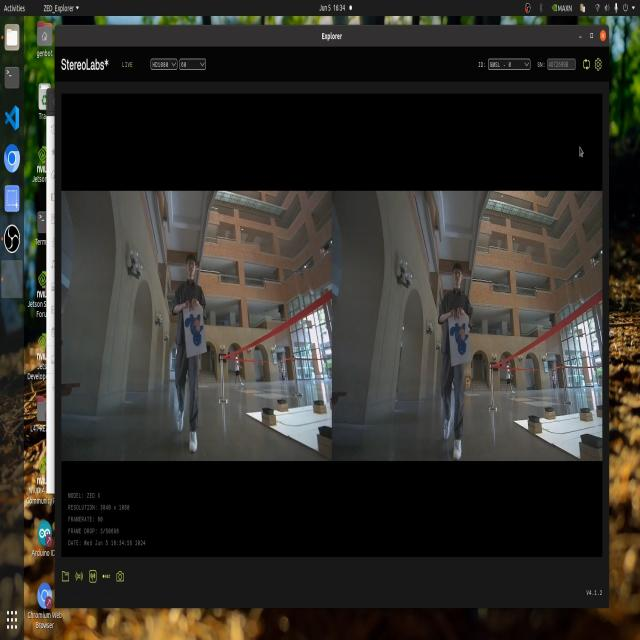blue: (174, 305, 208, 356), (446, 318, 470, 362)
